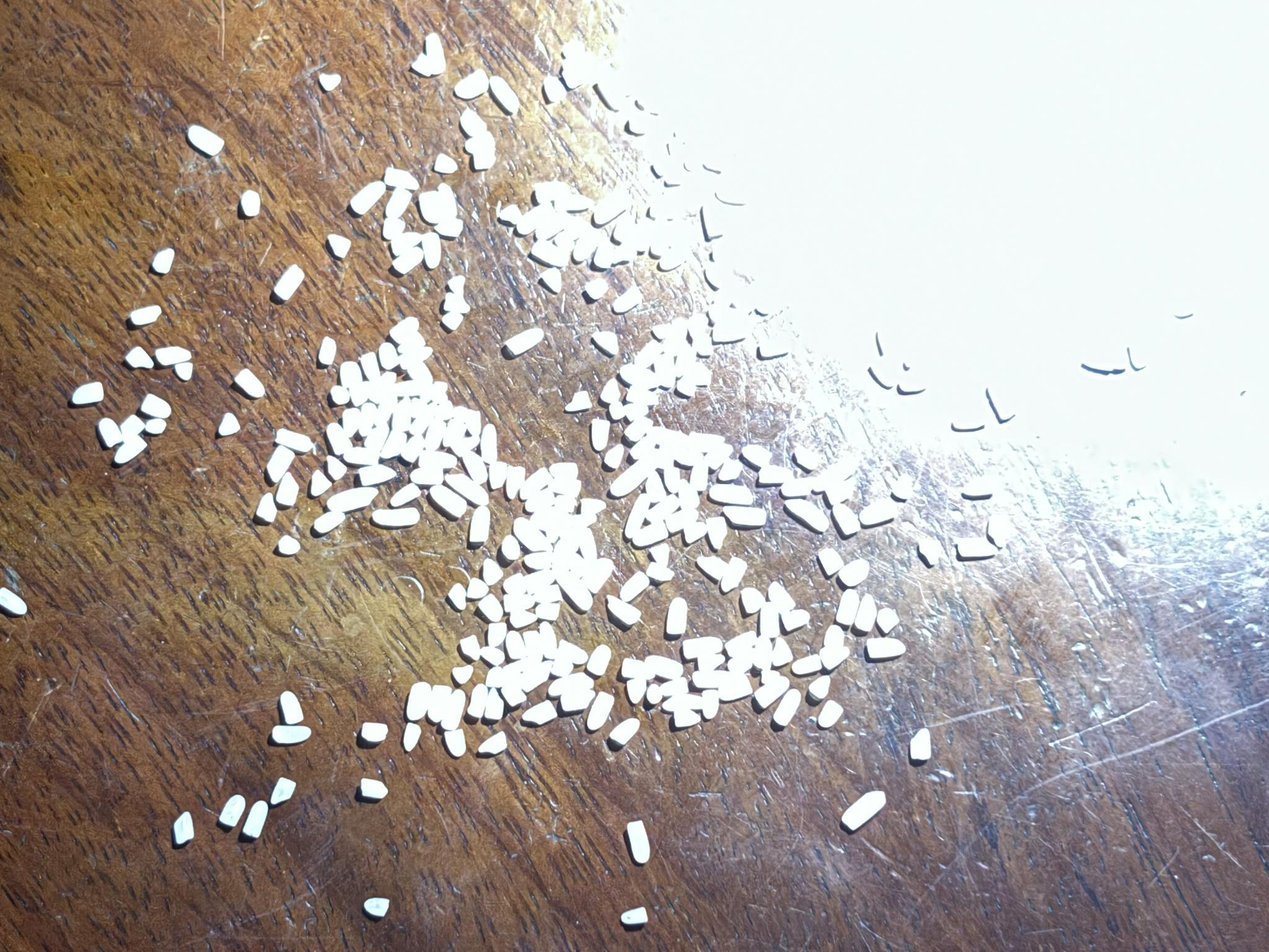Rice-th-y-nh: (1069, 334, 1130, 377), (646, 419, 700, 464), (609, 452, 656, 501), (841, 785, 887, 834), (326, 478, 379, 520), (784, 493, 830, 537), (553, 567, 595, 615), (591, 180, 633, 228), (712, 310, 759, 349), (444, 470, 491, 508), (593, 64, 629, 113), (512, 514, 553, 557), (503, 320, 545, 361), (982, 379, 1023, 421), (428, 480, 468, 522), (371, 500, 420, 534), (349, 175, 387, 218), (336, 359, 370, 407), (622, 818, 656, 865), (620, 491, 653, 539), (697, 196, 733, 240), (858, 493, 900, 530), (681, 629, 724, 665), (486, 73, 522, 116), (583, 689, 618, 733), (547, 667, 591, 702), (464, 128, 499, 172), (722, 498, 767, 532), (516, 198, 555, 237), (187, 120, 225, 160), (709, 478, 755, 511), (753, 671, 790, 712), (581, 554, 617, 596), (684, 311, 716, 358), (402, 679, 436, 723), (453, 65, 491, 104), (713, 172, 752, 210), (263, 442, 297, 485), (962, 468, 1005, 502), (438, 687, 469, 734), (716, 668, 754, 706), (868, 351, 905, 390), (644, 649, 684, 685), (518, 656, 554, 696), (828, 499, 864, 539), (621, 215, 657, 255), (272, 262, 306, 304), (420, 31, 451, 77), (659, 315, 692, 358), (605, 591, 642, 629), (631, 517, 670, 553), (415, 187, 450, 227), (692, 664, 737, 695), (771, 687, 804, 729), (956, 531, 999, 563), (571, 224, 606, 263), (865, 631, 906, 664), (559, 682, 597, 717), (531, 237, 570, 271), (240, 799, 272, 840), (718, 554, 750, 595), (424, 682, 455, 724), (270, 718, 312, 749), (514, 566, 556, 597), (500, 653, 538, 687), (646, 491, 681, 527), (823, 473, 858, 509), (553, 188, 595, 218), (521, 696, 558, 730), (519, 465, 553, 502), (531, 504, 568, 538), (533, 175, 572, 207), (832, 587, 863, 627), (662, 596, 692, 637), (417, 444, 458, 474), (837, 555, 872, 590), (658, 240, 693, 275), (452, 402, 485, 439), (676, 358, 713, 391), (755, 599, 784, 641), (475, 423, 504, 465), (358, 459, 397, 490), (549, 537, 580, 576), (382, 164, 421, 195), (852, 593, 882, 633), (465, 504, 495, 544), (274, 426, 314, 456), (695, 550, 730, 584), (898, 363, 933, 397), (382, 185, 414, 222), (619, 359, 656, 391), (556, 210, 593, 242), (460, 448, 491, 486), (217, 791, 248, 829), (724, 626, 758, 660), (533, 209, 566, 244), (620, 654, 656, 686), (766, 579, 798, 615), (984, 512, 1016, 548), (367, 368, 398, 405), (323, 420, 354, 457), (464, 682, 494, 720), (277, 689, 307, 727), (343, 441, 381, 471), (647, 216, 674, 258), (433, 182, 462, 221), (650, 351, 679, 390), (389, 227, 422, 261), (418, 230, 446, 270), (535, 621, 563, 661), (687, 427, 724, 457), (499, 673, 529, 710), (155, 340, 192, 370), (273, 471, 302, 509), (671, 340, 700, 378), (500, 463, 529, 501), (757, 459, 795, 488), (524, 485, 557, 518), (618, 569, 650, 603), (113, 434, 148, 465), (702, 515, 732, 551), (584, 642, 614, 678), (392, 245, 425, 277), (501, 628, 532, 662), (815, 544, 846, 578), (748, 633, 775, 672), (907, 726, 936, 762), (779, 473, 815, 502), (409, 462, 445, 491), (667, 688, 705, 715), (609, 715, 641, 747), (234, 368, 267, 399), (389, 313, 420, 346), (611, 285, 644, 316), (591, 236, 620, 271), (603, 240, 638, 269), (170, 810, 198, 846), (686, 457, 713, 494), (388, 396, 415, 433), (779, 604, 811, 635), (663, 506, 696, 536), (819, 643, 852, 673), (633, 338, 663, 371), (816, 697, 845, 731), (363, 423, 392, 457), (557, 510, 591, 539), (642, 469, 670, 504), (574, 526, 602, 561), (421, 417, 449, 452), (520, 627, 547, 663), (459, 107, 490, 138), (738, 584, 768, 616), (478, 727, 508, 759), (791, 650, 823, 680), (704, 439, 734, 471), (556, 637, 589, 666), (379, 428, 408, 461), (441, 726, 470, 759), (609, 211, 637, 245), (674, 478, 702, 512), (253, 491, 281, 525), (139, 392, 173, 420), (399, 342, 434, 369), (587, 416, 613, 452), (405, 358, 436, 388), (623, 413, 654, 443), (643, 445, 675, 474), (768, 636, 797, 668), (740, 442, 773, 470), (389, 481, 422, 509), (952, 407, 985, 435), (481, 687, 508, 721), (502, 589, 536, 616), (410, 403, 436, 438), (359, 773, 389, 803), (477, 593, 506, 624), (627, 107, 656, 138), (97, 416, 125, 448), (541, 73, 569, 105), (237, 187, 265, 219), (357, 350, 384, 383), (441, 417, 468, 450), (313, 509, 346, 536), (71, 380, 105, 406), (392, 375, 426, 401), (793, 443, 823, 472), (629, 431, 657, 462), (118, 412, 146, 443), (659, 674, 690, 702), (355, 401, 379, 437), (433, 214, 465, 241), (338, 405, 363, 439), (698, 687, 723, 721), (360, 717, 389, 746), (533, 580, 563, 608), (695, 648, 725, 676), (269, 776, 297, 806), (671, 704, 701, 732), (591, 329, 621, 357), (399, 434, 426, 465), (601, 441, 628, 472), (479, 557, 506, 588), (323, 452, 349, 484), (0, 587, 28, 616), (680, 517, 708, 546), (578, 492, 607, 520), (397, 330, 427, 357), (376, 340, 402, 371), (524, 548, 555, 574), (548, 457, 579, 483), (614, 95, 640, 126), (151, 245, 177, 276), (485, 459, 510, 491), (399, 721, 424, 753), (660, 463, 685, 495), (129, 303, 162, 327), (625, 379, 653, 407), (718, 456, 745, 485), (819, 623, 846, 652), (380, 214, 407, 243), (326, 231, 353, 260), (549, 650, 575, 680), (458, 633, 484, 663), (508, 606, 538, 632), (484, 619, 509, 650), (644, 560, 675, 585), (316, 335, 340, 367), (478, 642, 506, 669), (565, 388, 593, 415), (452, 432, 480, 459), (498, 533, 524, 562), (875, 606, 901, 635), (807, 672, 833, 701), (539, 265, 565, 294), (620, 903, 649, 929), (216, 410, 242, 439), (363, 893, 391, 919), (125, 345, 154, 370), (534, 600, 563, 625), (308, 469, 333, 498), (648, 540, 673, 569), (446, 581, 470, 611), (661, 693, 692, 716), (482, 663, 508, 690), (464, 575, 490, 602), (584, 275, 610, 302), (624, 677, 649, 705), (569, 555, 597, 580), (726, 654, 755, 678), (442, 291, 471, 315), (547, 474, 576, 498), (599, 377, 623, 406), (622, 400, 650, 424), (450, 661, 475, 687), (501, 571, 526, 597), (371, 402, 396, 428), (757, 667, 786, 689), (377, 390, 401, 416), (433, 152, 459, 176), (498, 203, 525, 226), (328, 382, 352, 407), (552, 229, 577, 253), (651, 318, 676, 342), (276, 533, 302, 556), (632, 388, 660, 409), (553, 492, 578, 515), (440, 309, 465, 332), (428, 379, 449, 405), (751, 322, 771, 349), (434, 398, 456, 422), (145, 416, 168, 438), (173, 360, 196, 382), (446, 273, 468, 295), (644, 682, 664, 706), (608, 399, 627, 421)
